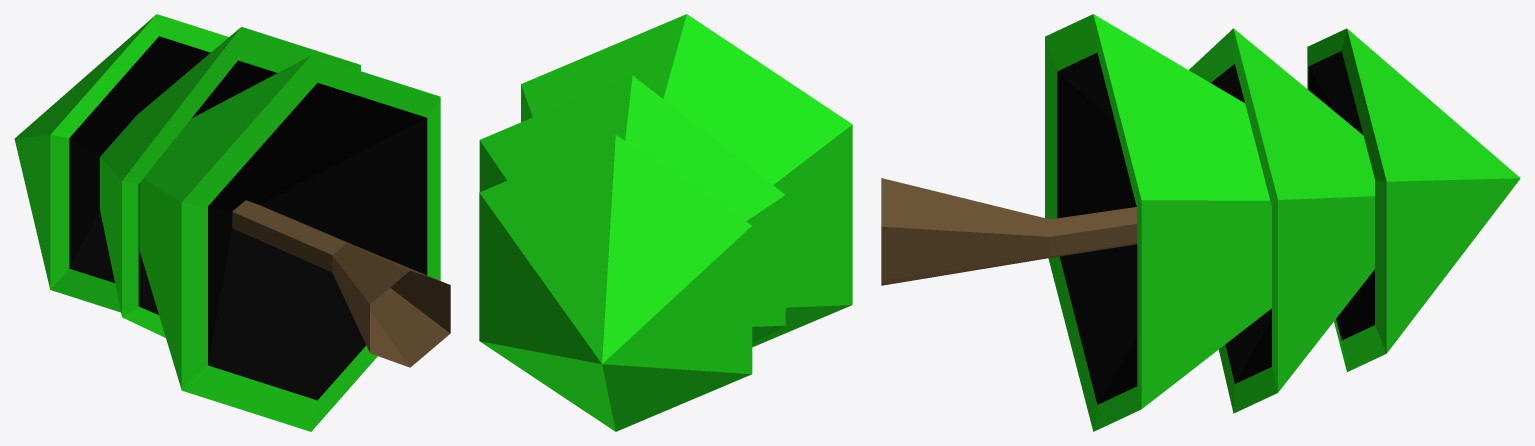
The model's file is lowPolyPineTree.fbx.
3 renders of one model, left to right at view 1: azimuth 30°, elevation 25°; view 2: azimuth 150°, elevation 25°; view 3: azimuth 270°, elevation 25°, orthographic. The views are drawn at different scales.
Parts seen in each view (by area): view 1: LowPolyPine; view 2: LowPolyPine; view 3: LowPolyPine.
Part boxes in pixels (<box>): LowPolyPine: <box>14,14,450,431</box>; LowPolyPine: <box>479,14,852,431</box>; LowPolyPine: <box>881,14,1520,431</box>.
Bounding box in the file's own units: 2002 × 2281 × 3163.
